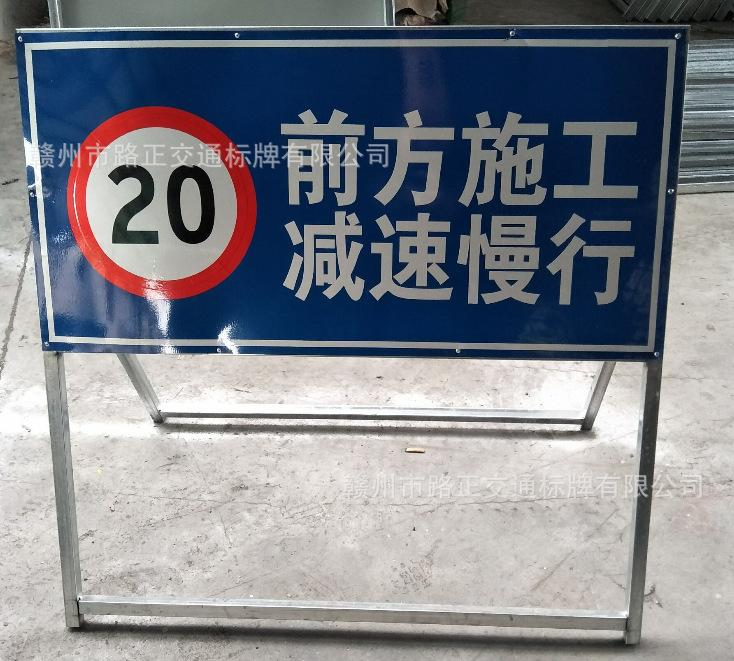sign: (24, 43, 665, 352)
